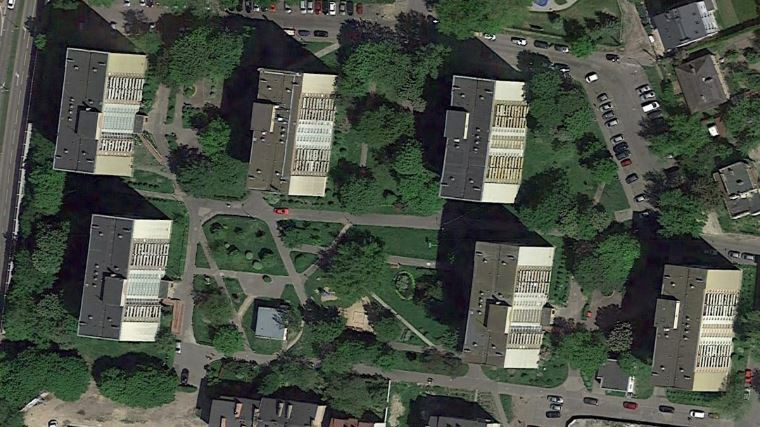block of flats: (451, 238, 573, 372), (66, 210, 182, 350), (239, 59, 341, 204), (644, 252, 746, 397), (48, 37, 146, 182), (431, 69, 530, 210)
family house: (647, 1, 721, 58), (673, 49, 731, 119), (709, 156, 760, 221)
